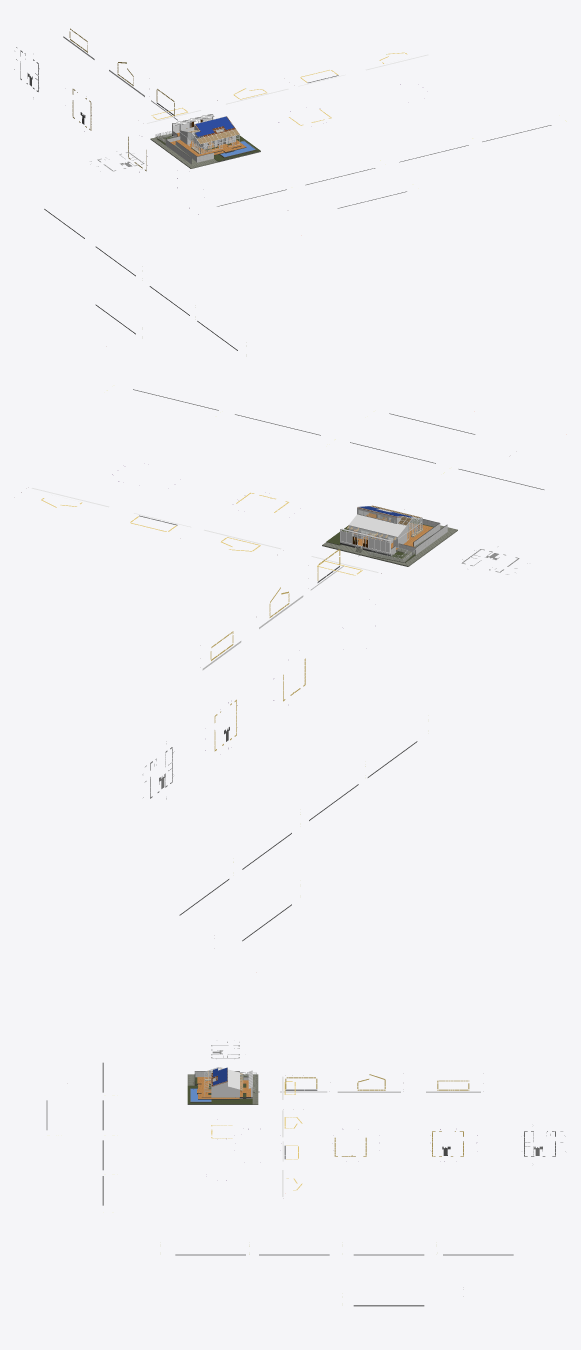
Rendered from Nature In Between SHARED Render-J.fbx.
3 views of the same model, one above another, from view 1: azimuth 30°, elevation 25°; view 2: azimuth 150°, elevation 25°; view 3: azimuth 270°, elevation 25° (orthographic). The views are drawn at different scales.
Visible parts, largest first — view 1: emplacement <Non partagé> (×2), Generic - 200mm sd old, 50mm x 65mm, Wood Joist 220mm - Wood Finish Sd 2; view 2: emplacement <Non partagé> (×2), 300mm Foundation Solar, Generic Roof - 475 mm north; view 3: emplacement <Non partagé> (×2), Wood Joist 220mm - Wood Finish grass 2, Wood Joist 220mm - Wood Finish Sd 2.
Part boxes in pixels (box(x1,y1,x2,y2)): emplacement <Non partagé> (×2): box(14, 28, 566, 350); Generic - 200mm sd old: box(165, 131, 213, 164); 50mm x 65mm: box(187, 116, 239, 153); Wood Joist 220mm - Wood Finish Sd 2: box(170, 132, 241, 156); emplacement <Non partagé> (×2): box(21, 389, 544, 941); 300mm Foundation Solar: box(322, 525, 457, 566); Generic Roof - 475 mm north: box(348, 514, 406, 538); emplacement <Non partagé> (×2): box(46, 1041, 565, 1306); Wood Joist 220mm - Wood Finish grass 2: box(187, 1076, 252, 1104); Wood Joist 220mm - Wood Finish Sd 2: box(197, 1077, 252, 1098).
Size of the model in its own units: 472 by 641 by 336.
Materials: 65 (27 with a texture image).
